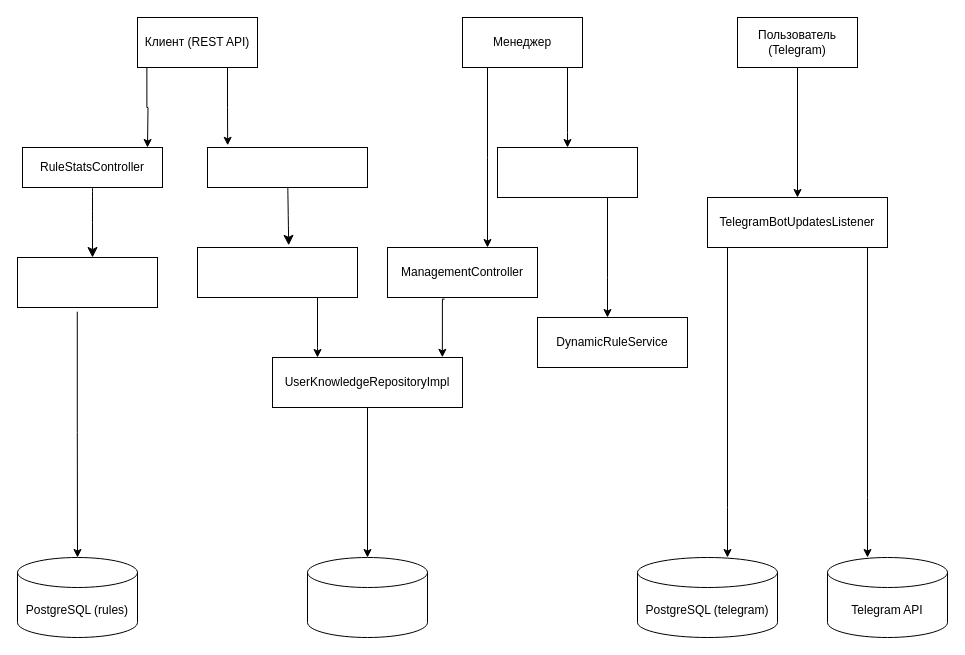
The diagram is 965 pixels wide and 655 high, and some of its shapes have lost their labels. The centre of each missing label's shape, as x and y in pixels:
DynamicRuleEvaluator: point 277,272
PostgreSQL (bankApp): point 367,597
RecommendationController: point 287,167
RuleController: point 567,172
RuleStatRepository: point 87,282
